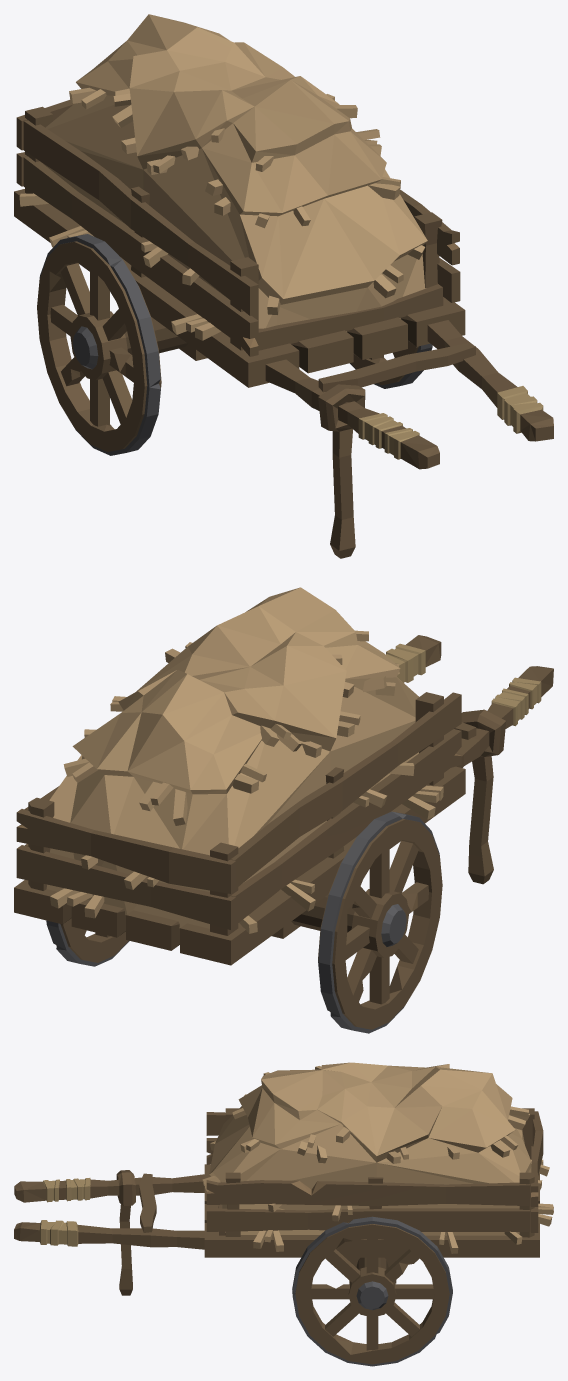
File: SM_Prop_CartHay_01.gltf
3 renders of one model, top to bottom at view 1: azimuth 30°, elevation 25°; view 2: azimuth 150°, elevation 25°; view 3: azimuth 270°, elevation 25°, orthographic. The views are drawn at different scales.
Parts seen in each view (by area): view 1: SM_Prop_CartHay_01; view 2: SM_Prop_CartHay_01; view 3: SM_Prop_CartHay_01.
Boxes of the visible parts, <box> form: SM_Prop_CartHay_01: <box>14,14,553,558</box>; SM_Prop_CartHay_01: <box>14,587,553,1033</box>; SM_Prop_CartHay_01: <box>14,1062,553,1366</box>.
Bounding box in the file's own units: 1.52 × 1.67 × 3.22.
Materials: 1 (1 with a texture image).
